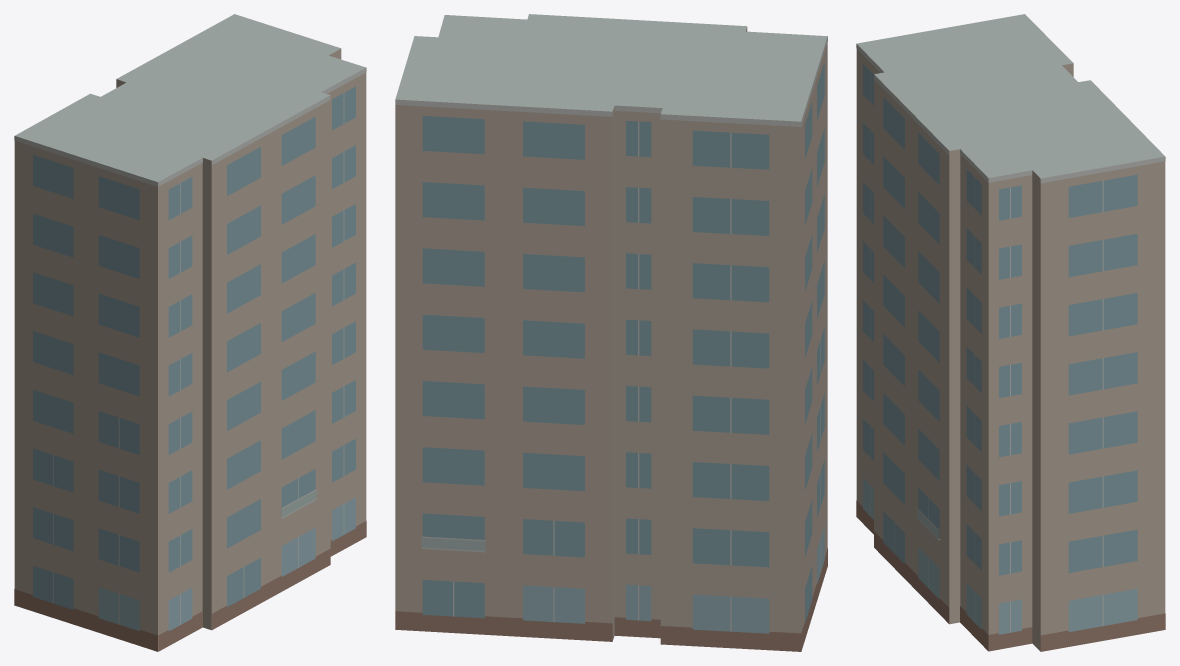
Rendered from survey-upis-32709319.glb.
The picture shows the model from 3 angles, left to right: view 1: azimuth 30°, elevation 25°; view 2: azimuth 150°, elevation 25°; view 3: azimuth 270°, elevation 25°; orthographic projection. The views are drawn at different scales.
Visible parts, largest first — view 1: survey-upis-32709319.tmp; view 2: survey-upis-32709319.tmp; view 3: survey-upis-32709319.tmp.
Part boxes in pixels (x1,y1,x2,y2): survey-upis-32709319.tmp: (14,14,366,651); survey-upis-32709319.tmp: (395,14,827,651); survey-upis-32709319.tmp: (856,14,1165,651).
Size of the model in its own units: 18.21 by 24.4 by 14.45.
